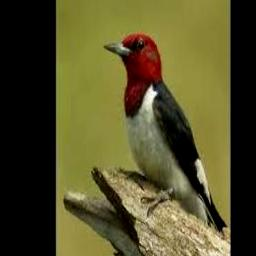Woodpecker: (103, 33, 227, 233)
